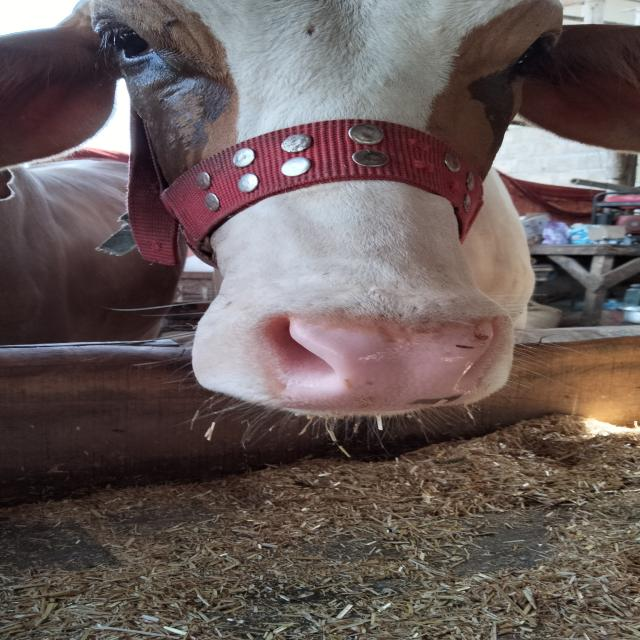muzzles: (243, 294, 514, 419)
